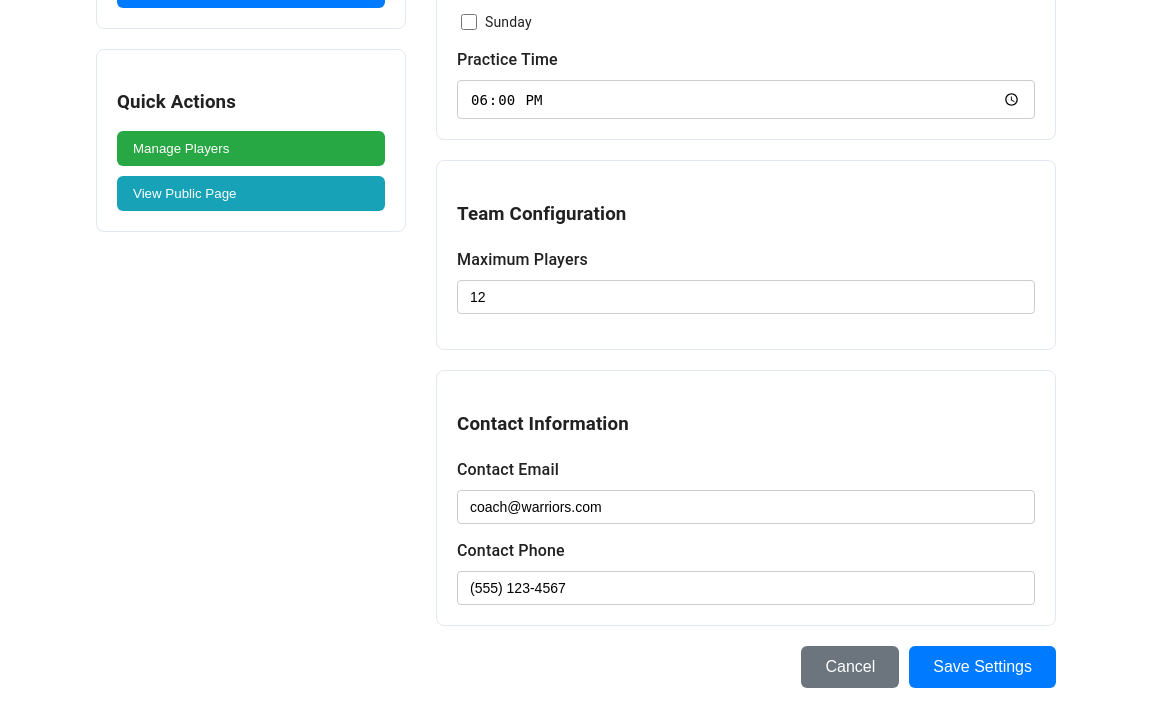
Test: TeamSettings Component › Save Settings › should disable save button while saving
The image size is (1152, 708).
(page scrolled)
Click the button "Save Settings" at (983, 667), box [909, 646, 1056, 688]
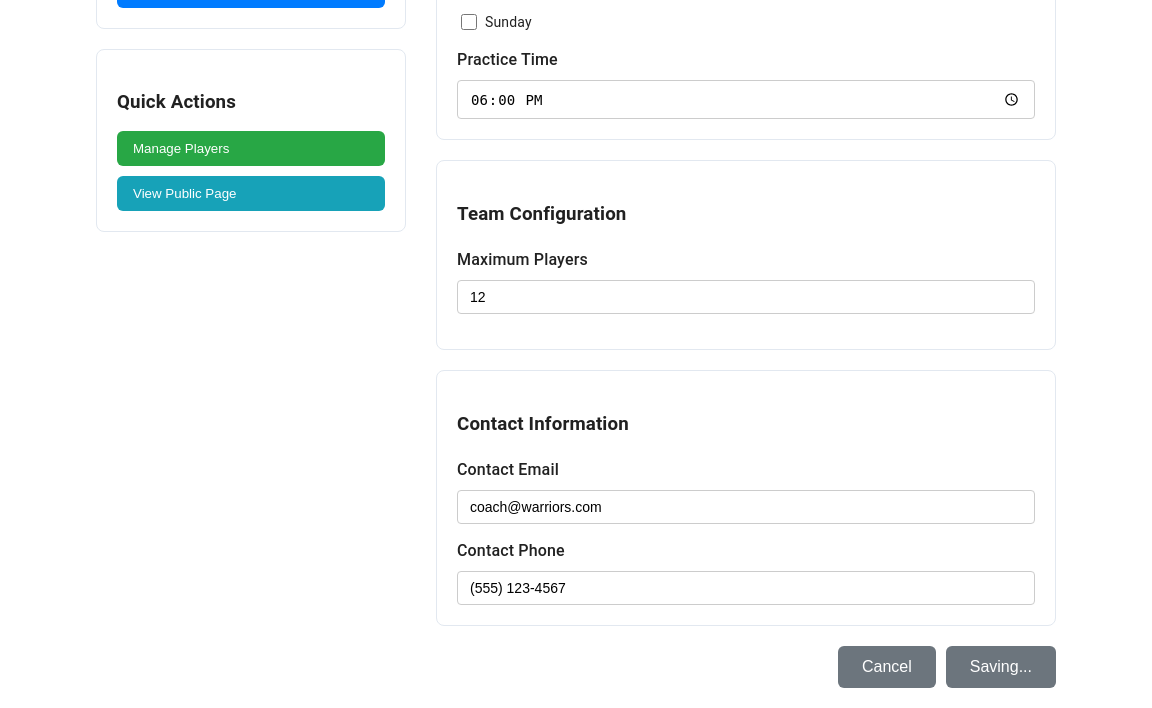
Now the button "Saving..." is disabled, box [946, 646, 1056, 688]
